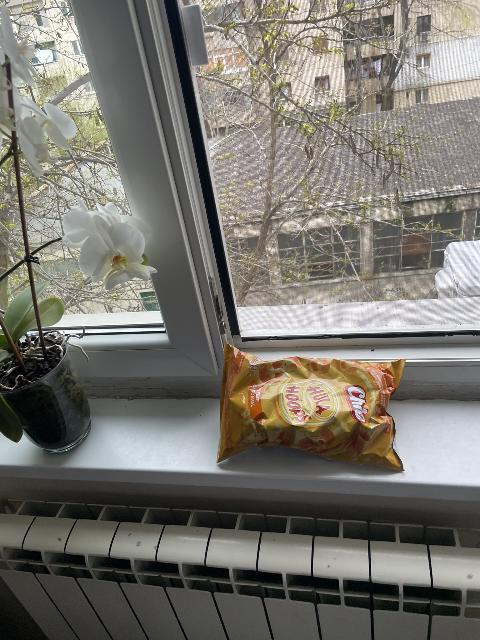Chio Hula Hoops Cheese 70g: (220, 348, 403, 466)
